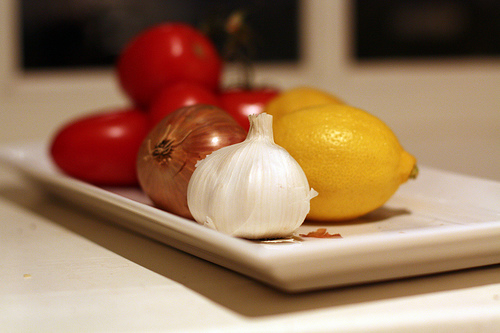onion: (137, 102, 248, 222)
